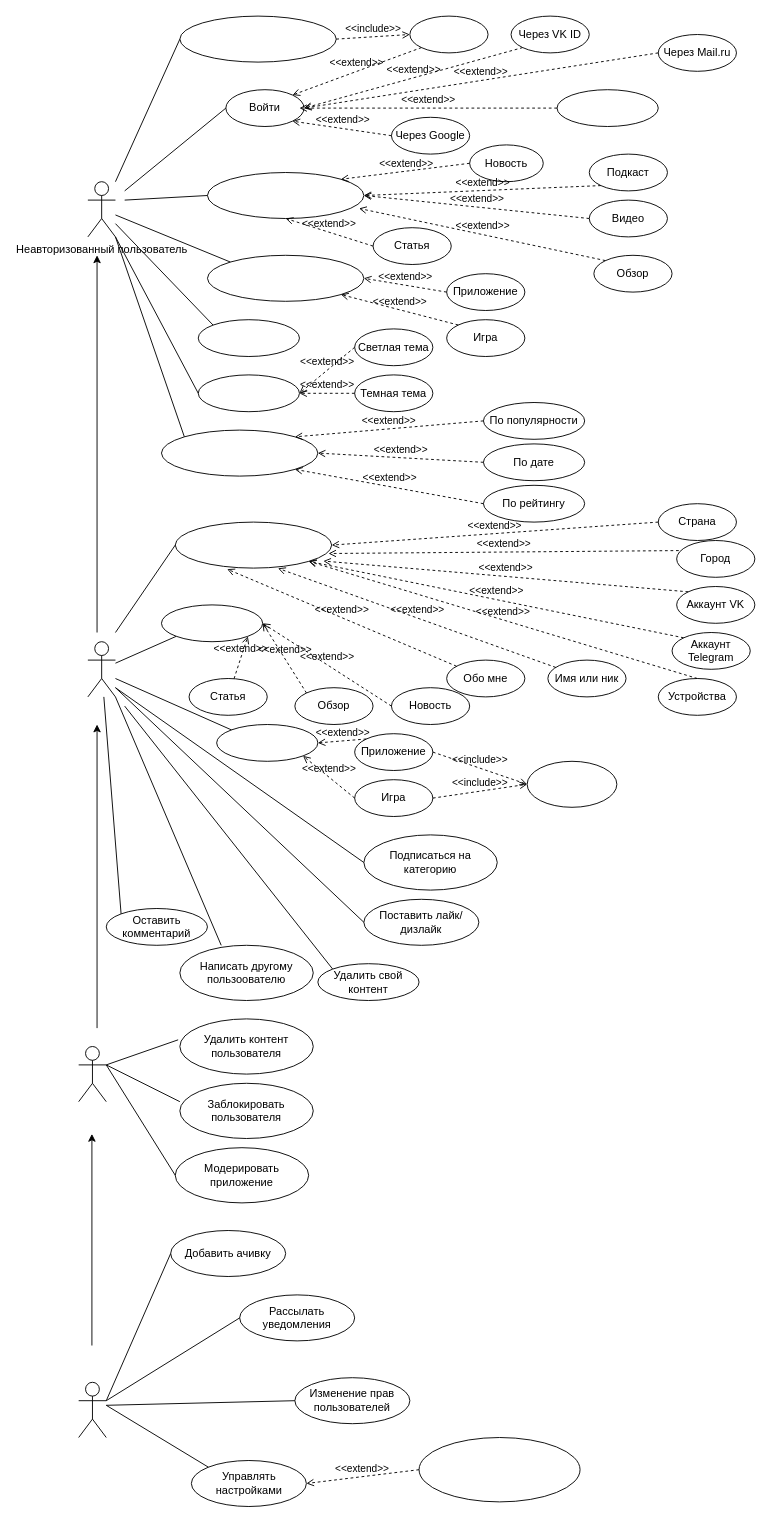
Image size: 771x1523. Some labels were removed from this diagram. Each missing label, with the centre of its shape:
Авторизованный пользователь: (101,669)
Администратор: (92,1409)
Выбрать категорию: (571,783)
Загрузить приложение: (267,742)
Зарегистрироваться: (257,38)
Изменять интерфейс сайта: (499,1469)
Модератор: (92,1074)
Поиск контента: (248,337)
Просмотр контента: (285,195)
Редактировать профиль: (253,544)
Скачать приложение: (285,277)
Сменить тему: (248,393)
Создать контент: (212,623)
Сортировать контент: (239,452)
Через email: (448,34)
Через Яндекс ID: (607,107)
